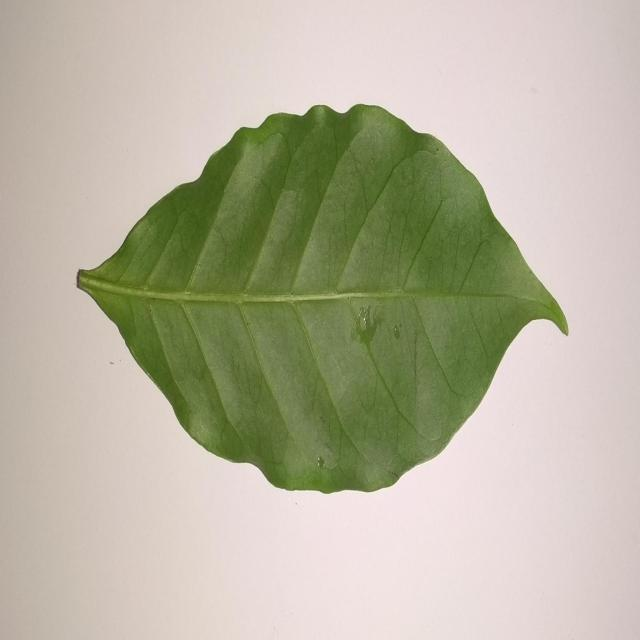Sanas: (74, 104, 570, 497)
